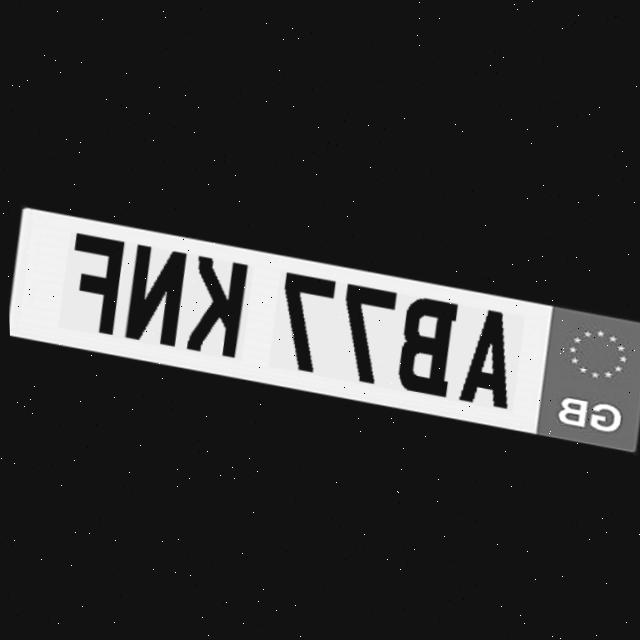license-plates: (9, 206, 640, 452)
